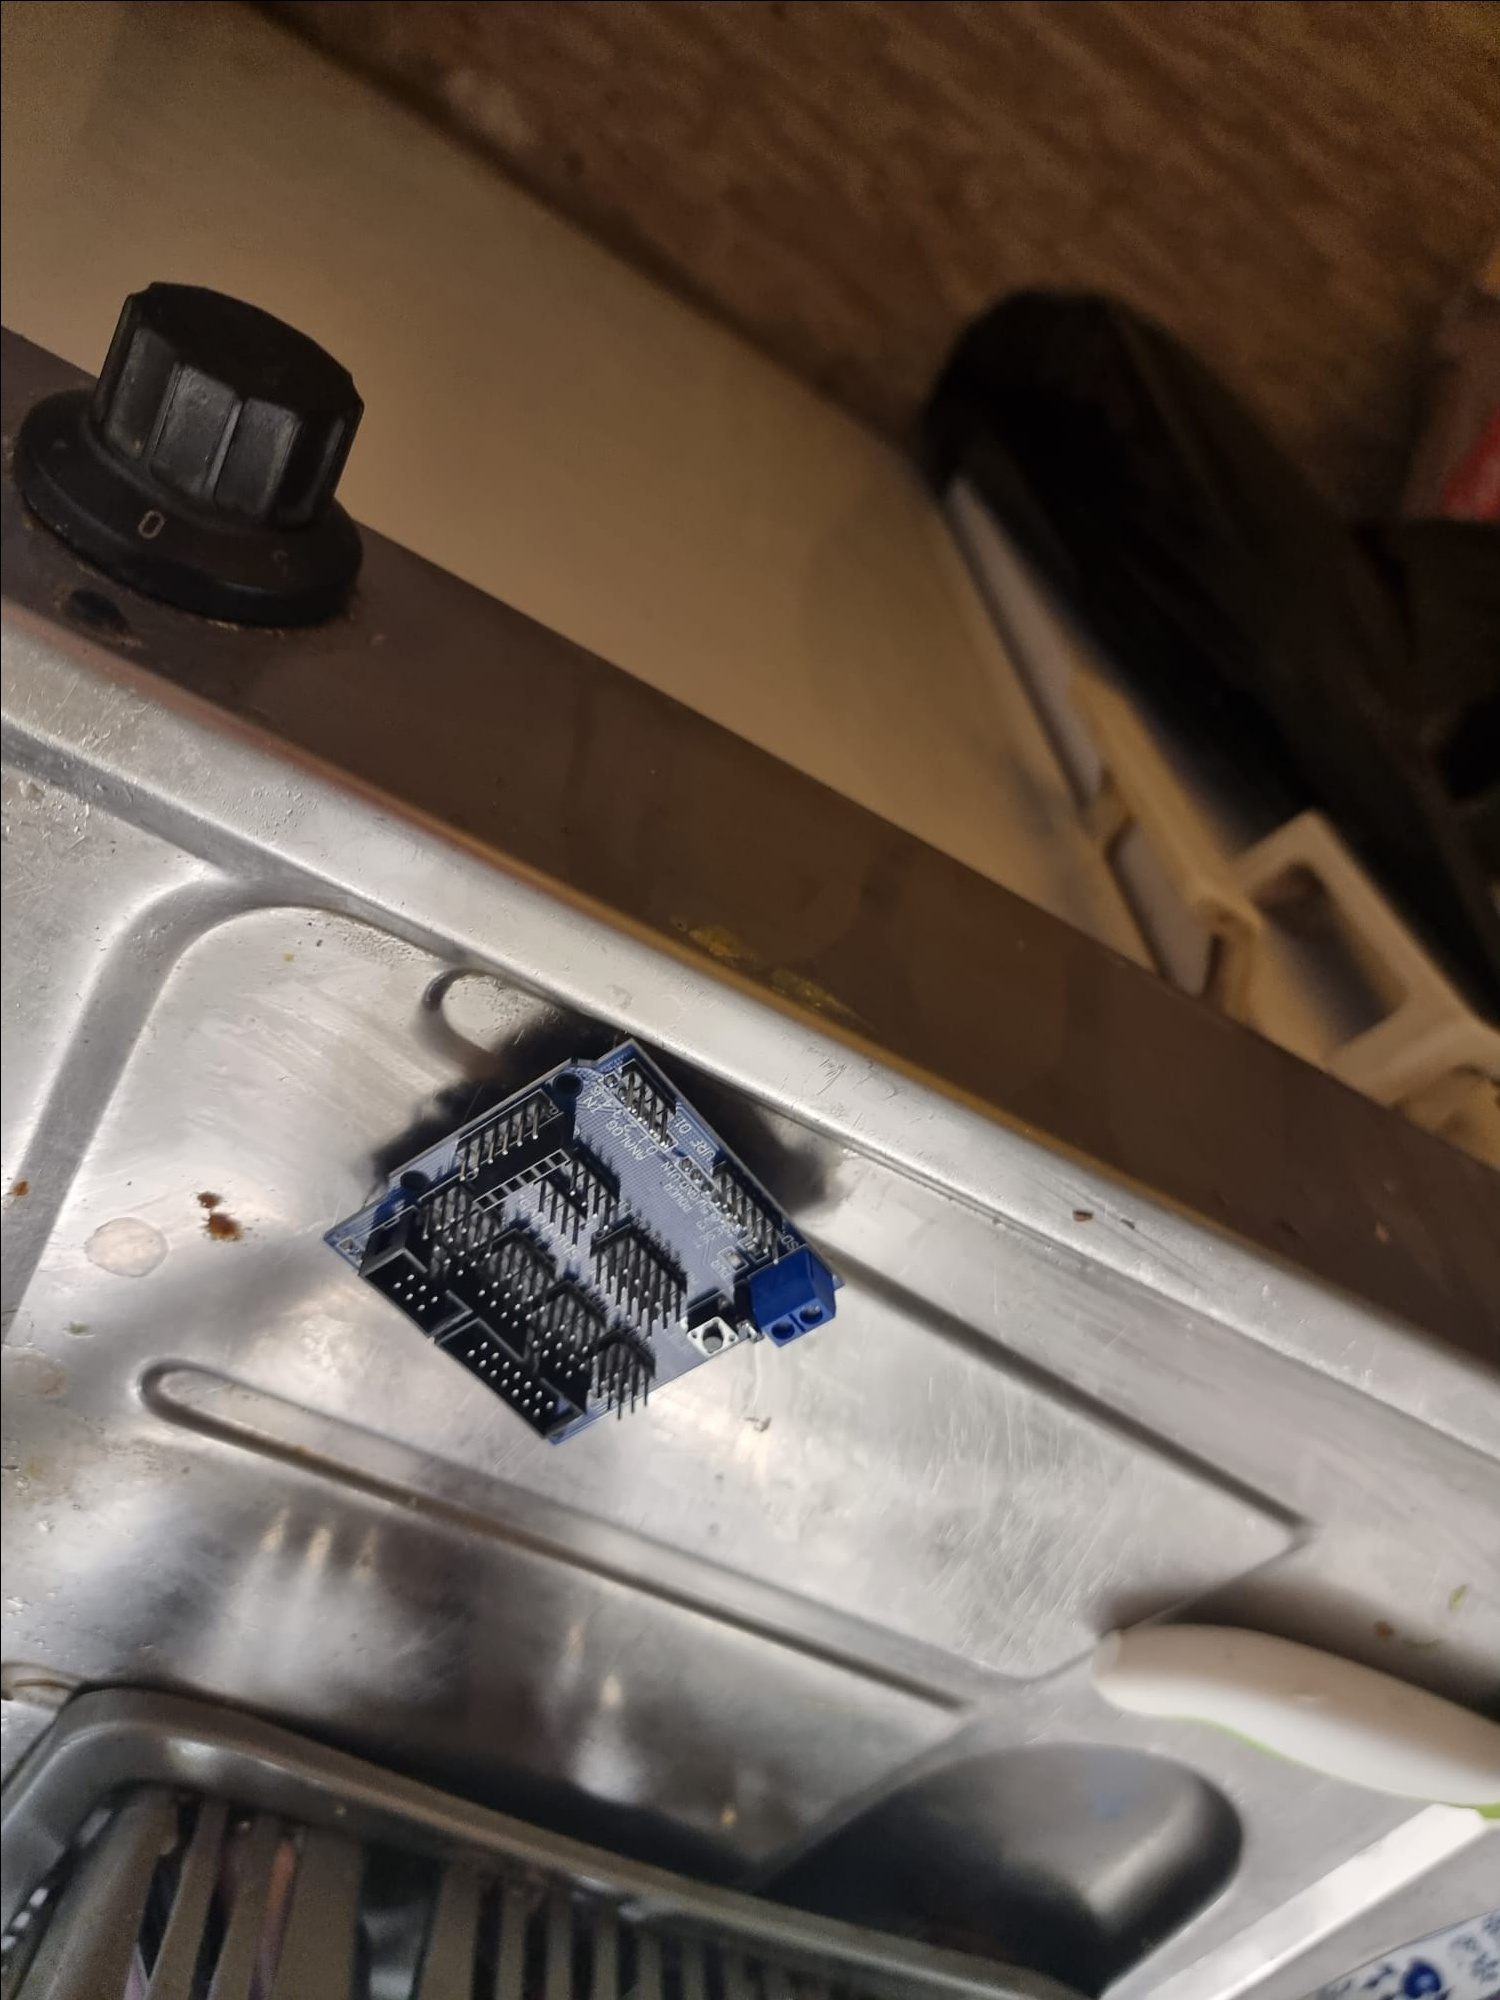5V EXPANSION: (314, 1043, 816, 1457)
